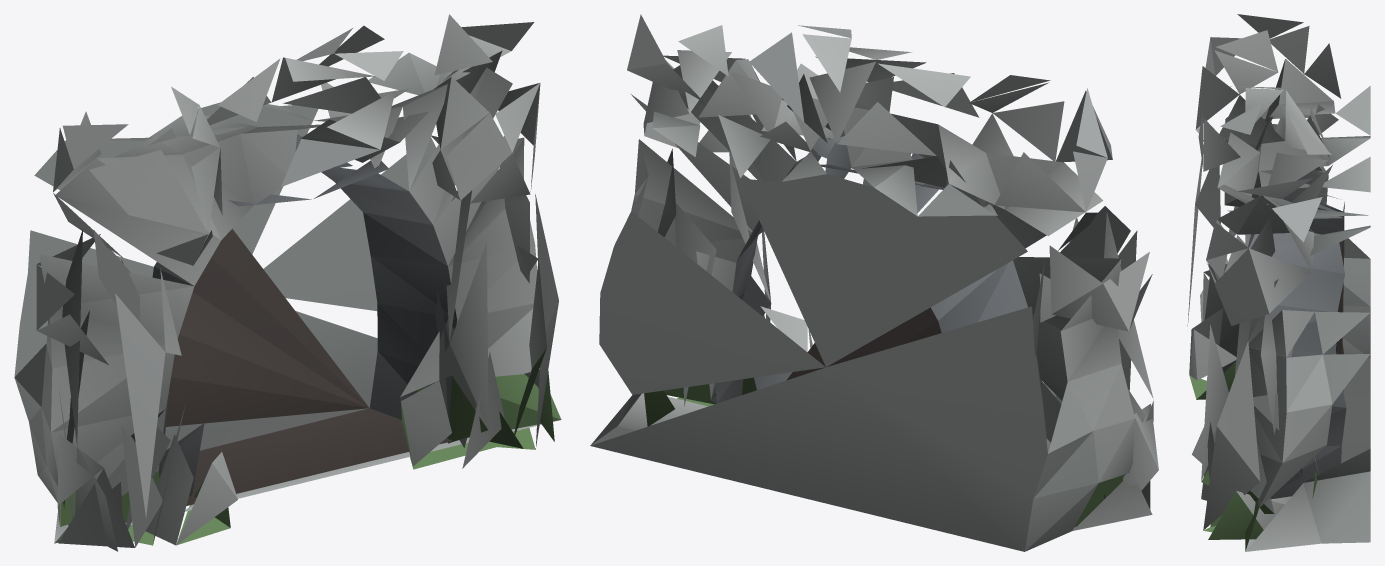
The model's file is cave.lod.glb.
3 views of the same model, side by side, from view 1: azimuth 30°, elevation 25°; view 2: azimuth 150°, elevation 25°; view 3: azimuth 270°, elevation 25° (orthographic). The views are drawn at different scales.
Parts seen in each view (by area): view 1: cave; view 2: cave; view 3: cave.
Boxes of the visible parts, x1=… form: cave: x1=14, y1=14, x2=561, y2=551; cave: x1=590, y1=14, x2=1158, y2=551; cave: x1=1187, y1=14, x2=1370, y2=551.
Size of the model in its own units: 13.04 by 10.25 by 4.68.
